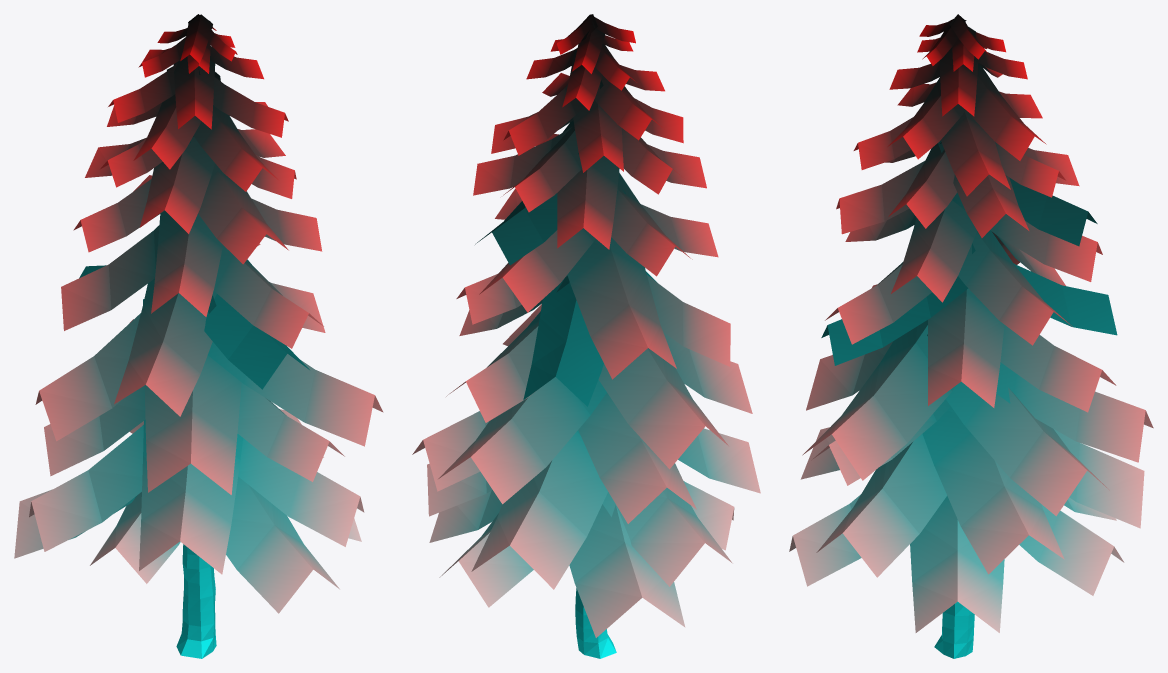
Rendered from PineTree03.fbx.
3 renders of one model, left to right at view 1: azimuth 30°, elevation 25°; view 2: azimuth 150°, elevation 25°; view 3: azimuth 270°, elevation 25°, orthographic.
Parts seen in each view (by area): view 1: Leaves, Trunk; view 2: Leaves, Trunk; view 3: Leaves, Trunk.
Boxes of the visible parts, box(x1,y1,x2,y2) form: Leaves: box(14, 14, 383, 613); Trunk: box(176, 544, 216, 658); Leaves: box(412, 14, 760, 637); Trunk: box(575, 588, 616, 658); Leaves: box(789, 14, 1153, 632); Trunk: box(934, 601, 974, 658).
Bounding box in the file's own units: 476 × 982 × 509.
